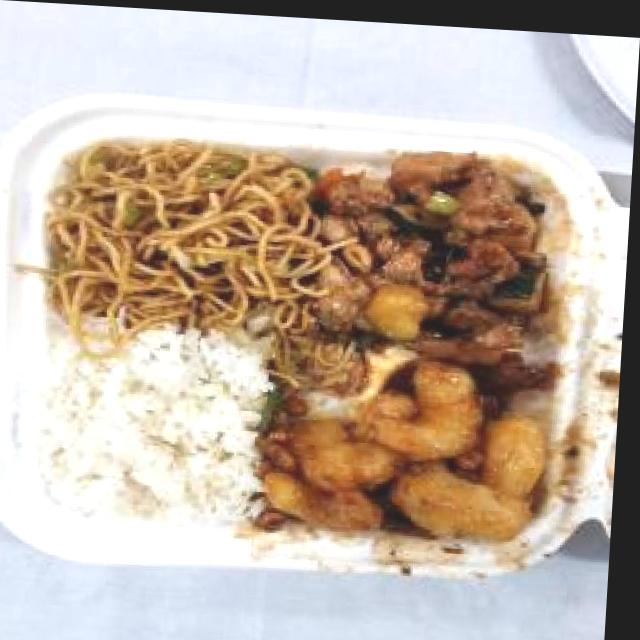Chow Mein: (48, 131, 330, 339)
Honey Walnut Shrimp: (265, 354, 577, 563)
Kung Pao Chicken: (317, 143, 572, 372)
White Steamed Rice: (34, 326, 278, 530)
